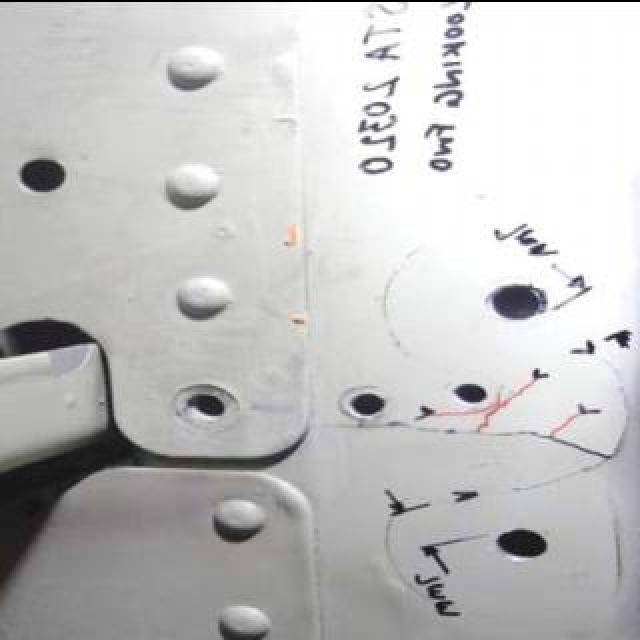crack: (302, 374, 626, 462), (495, 350, 640, 498)
